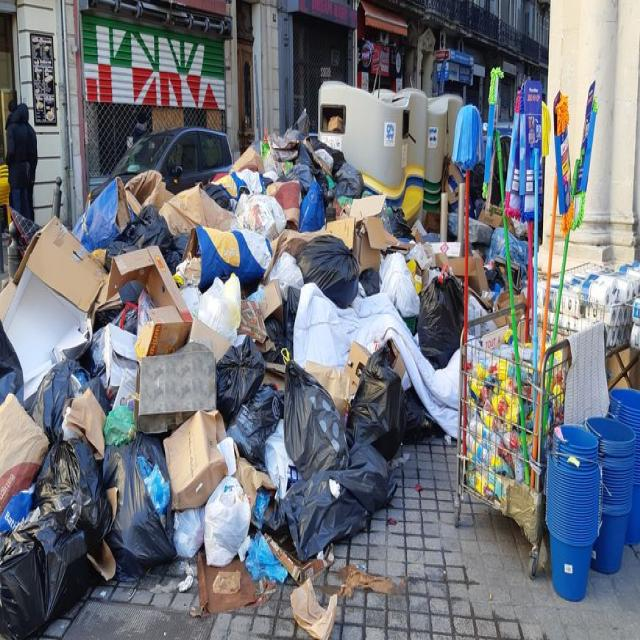garbage: (19, 100, 440, 612)
